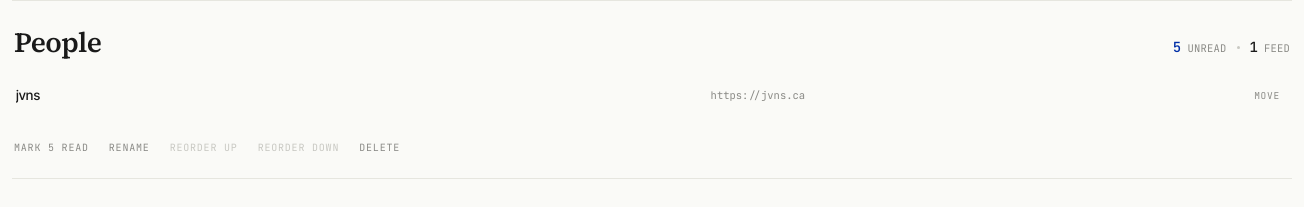
Test: CategoryCard › clicking the title swaps to a .ts-cat-title-input and focuses it
Click the text "People" at (58, 42), box [14,27,101,58]
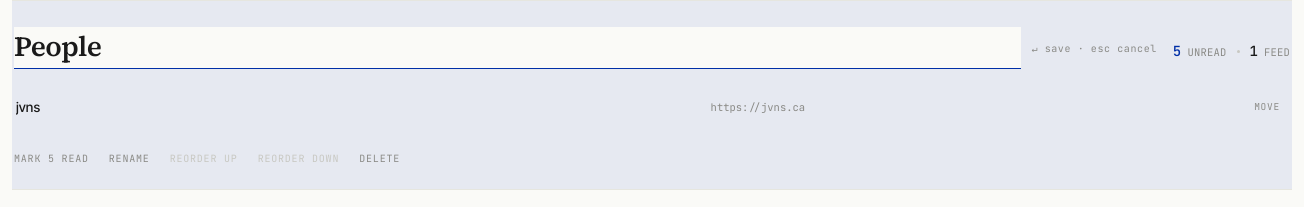
Expected: the field with class "ts-cat-title-input" holds "People", [14,27,1021,69]
